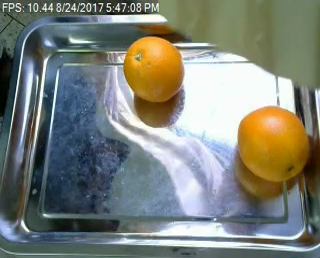Orange: (238, 106, 309, 182), (122, 35, 183, 103)
